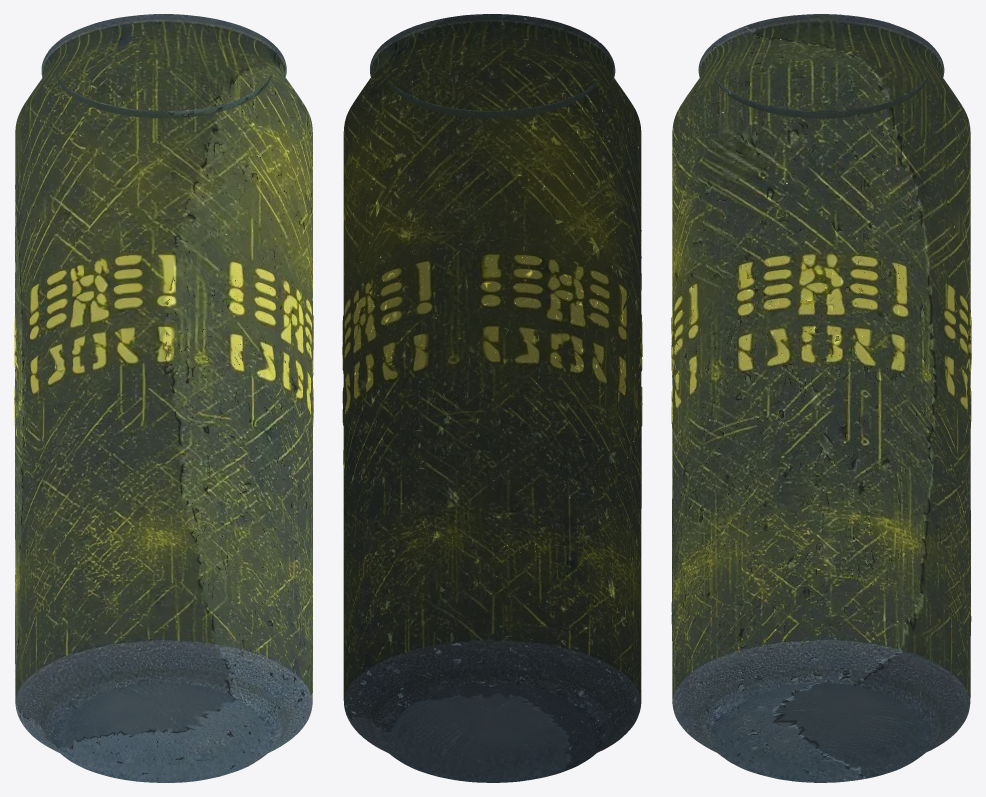
Rendered from cyber_citrus_ultra.glb.
3 views of the same model, side by side, from view 1: azimuth 30°, elevation 25°; view 2: azimuth 150°, elevation 25°; view 3: azimuth 270°, elevation 25° (orthographic).
Visible parts, largest first — view 1: tripo_node_42293e48-663e-47a2-82b2-7a44e7977de5; view 2: tripo_node_42293e48-663e-47a2-82b2-7a44e7977de5; view 3: tripo_node_42293e48-663e-47a2-82b2-7a44e7977de5.
Part boxes in pixels (<box>): tripo_node_42293e48-663e-47a2-82b2-7a44e7977de5: <box>14,14,313,782</box>; tripo_node_42293e48-663e-47a2-82b2-7a44e7977de5: <box>342,14,642,782</box>; tripo_node_42293e48-663e-47a2-82b2-7a44e7977de5: <box>671,14,971,782</box>.
Size of the model in its own units: 0.4043 by 1 by 0.4043.
1 material, 1 textured.
